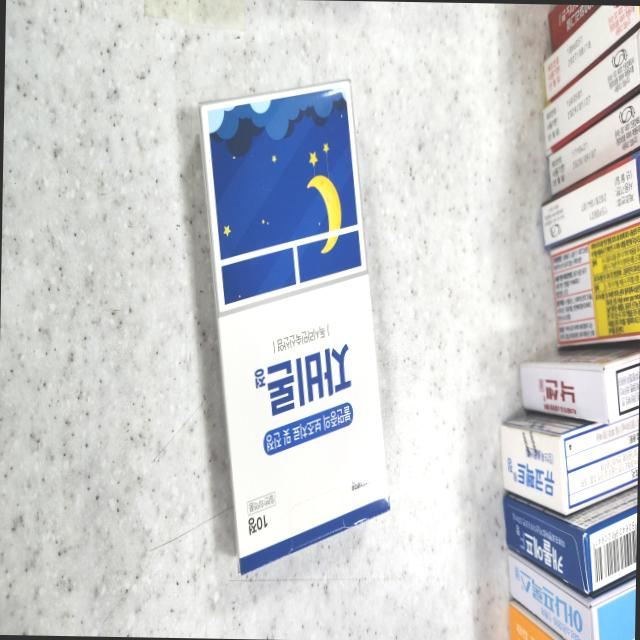box: (192, 76, 396, 572), (519, 342, 639, 424)
